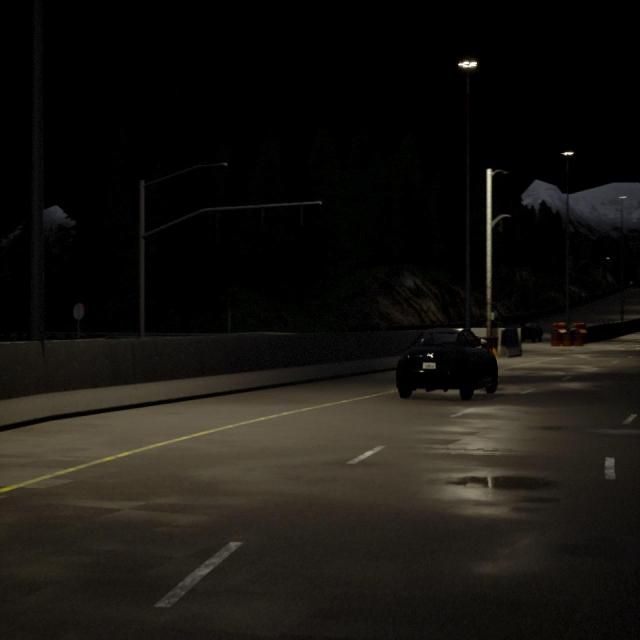Traffic_Signs: (74, 303, 84, 319)
Vehicle: (396, 327, 498, 400)
traffic_light: (260, 208, 265, 227), (299, 205, 303, 227), (216, 210, 220, 229), (499, 220, 504, 233)
